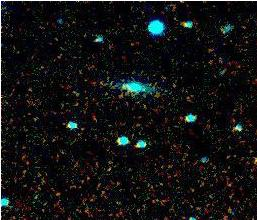star: (104, 71, 134, 101)
